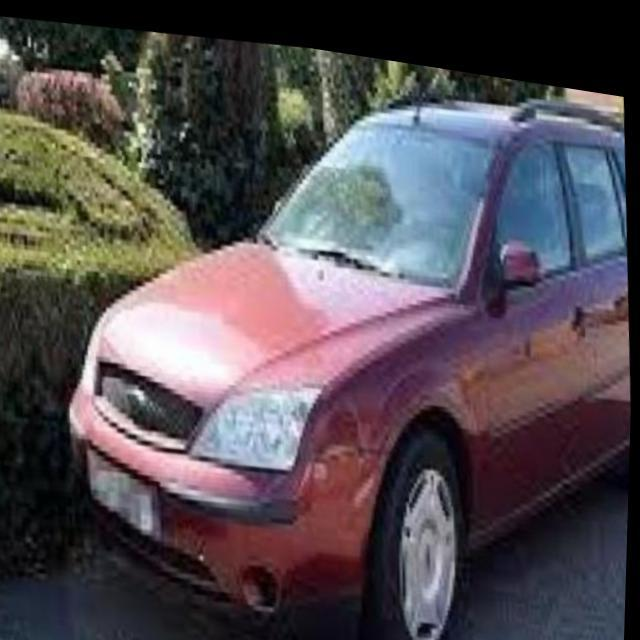dent: (292, 381, 378, 512)
